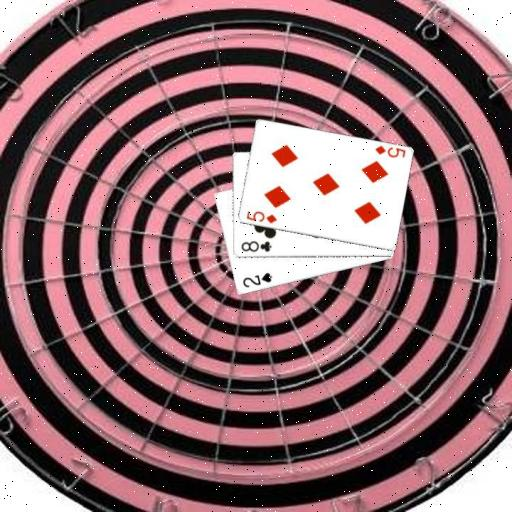2S: (240, 270, 274, 289)
5D: (371, 143, 407, 160), (243, 209, 278, 226)
8C: (239, 238, 273, 254)
